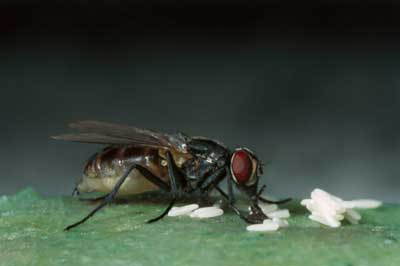fly: (51, 108, 303, 237)
